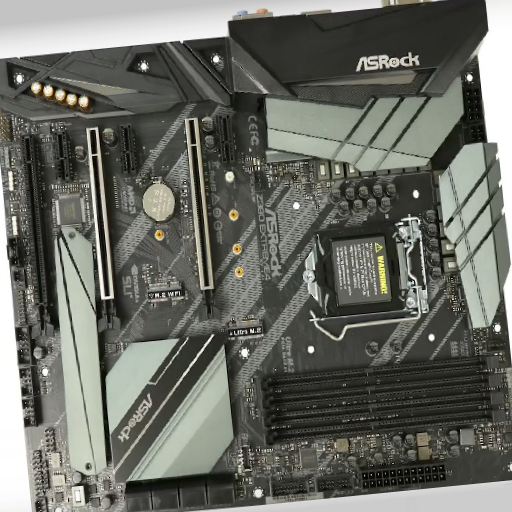CPU: (300, 226, 420, 316)
GPU: (184, 118, 223, 322), (84, 127, 122, 332), (21, 132, 57, 337)
MOTHERBOARD: (6, 4, 512, 510)
RAM: (253, 355, 507, 445)
SSD: (143, 278, 185, 308), (224, 315, 266, 344)
